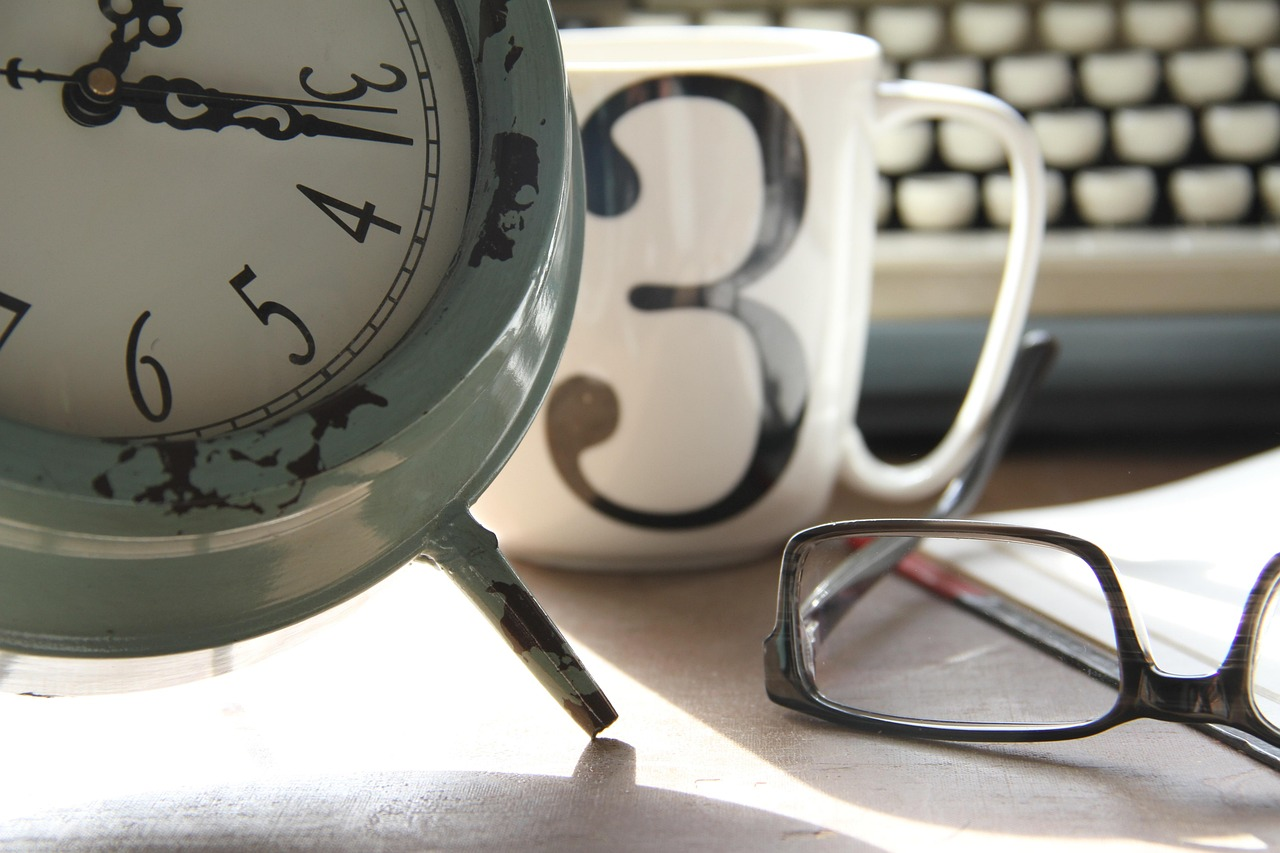mug: (411, 17, 1086, 587)
